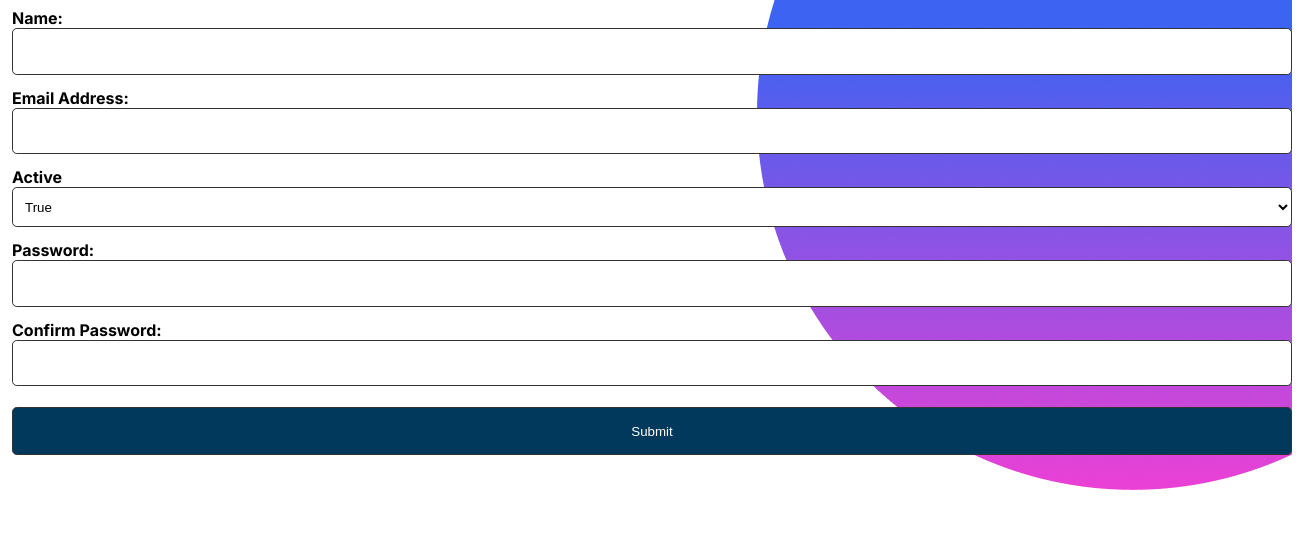
Test case: renders owner registration form with validation
Click the button "Submit" at x=652, y=431, box [12,407,1292,455]
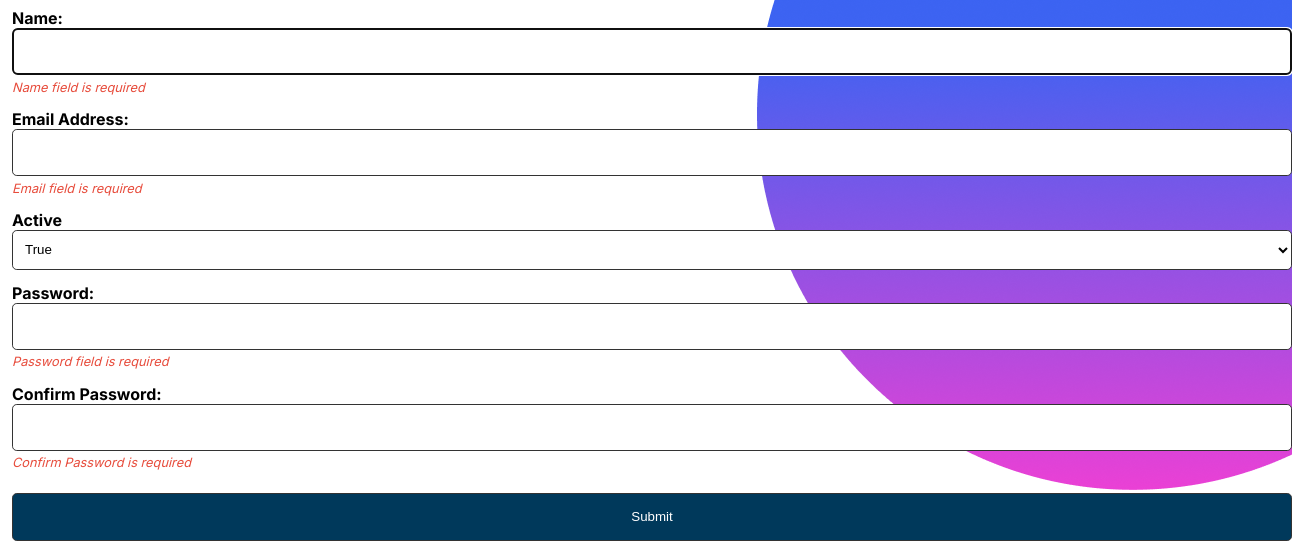
Check: the text "Name field is required" is shown, box [12,80,145,95]
Check: the text "Email field is required" is shown, box [12,181,142,196]
Check: the text "Password field is required" is shown, box [12,354,169,369]
